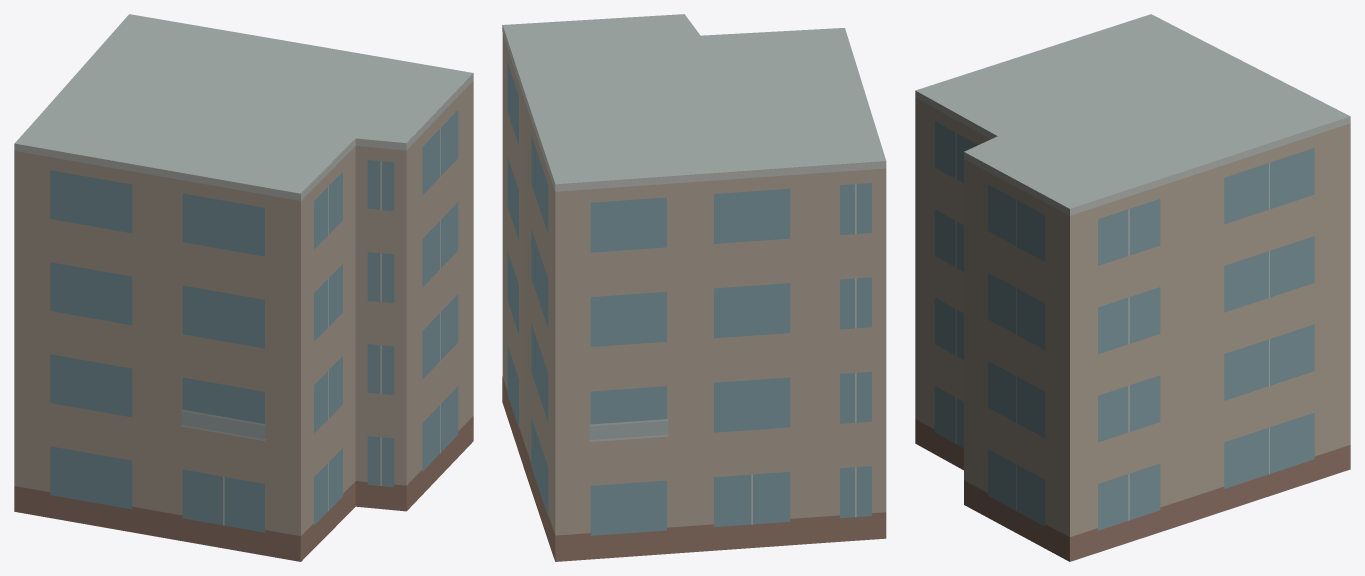
The model's file is survey-upis-32742607.glb.
3 renders of one model, left to right at view 1: azimuth 30°, elevation 25°; view 2: azimuth 150°, elevation 25°; view 3: azimuth 270°, elevation 25°, orthographic. The views are drawn at different scales.
Parts seen in each view (by area): view 1: survey-upis-32742607.tmp; view 2: survey-upis-32742607.tmp; view 3: survey-upis-32742607.tmp.
Boxes of the visible parts, bbox=[...] form: survey-upis-32742607.tmp: bbox=[14, 14, 473, 561]; survey-upis-32742607.tmp: bbox=[502, 14, 886, 561]; survey-upis-32742607.tmp: bbox=[915, 14, 1350, 561].
Size of the model in its own units: 14.64 by 12.35 by 13.81.
